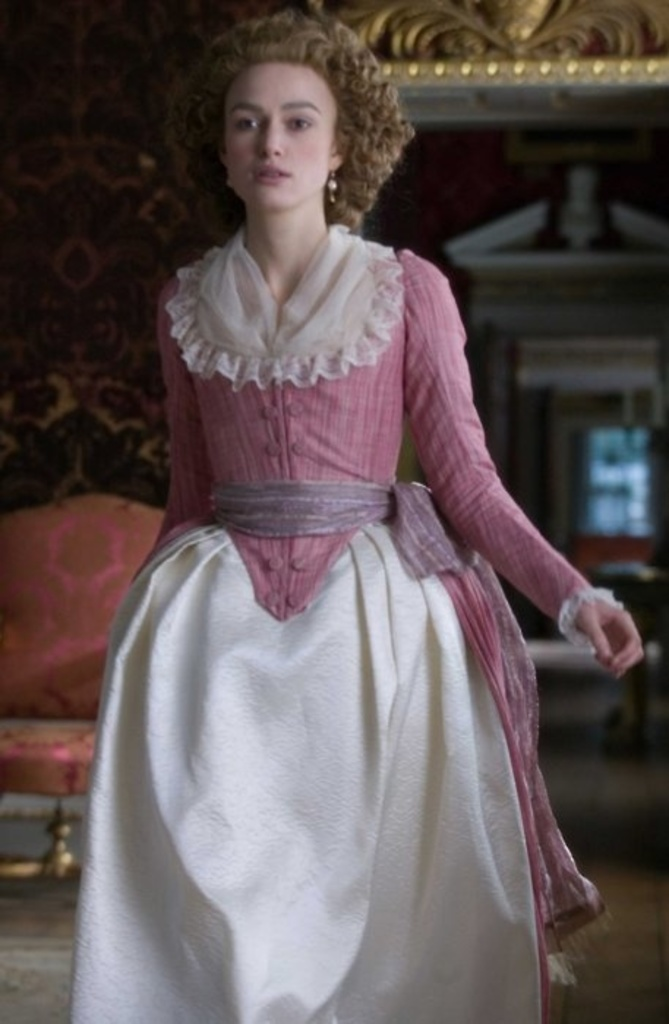Human_hand: (572, 595, 650, 683)
